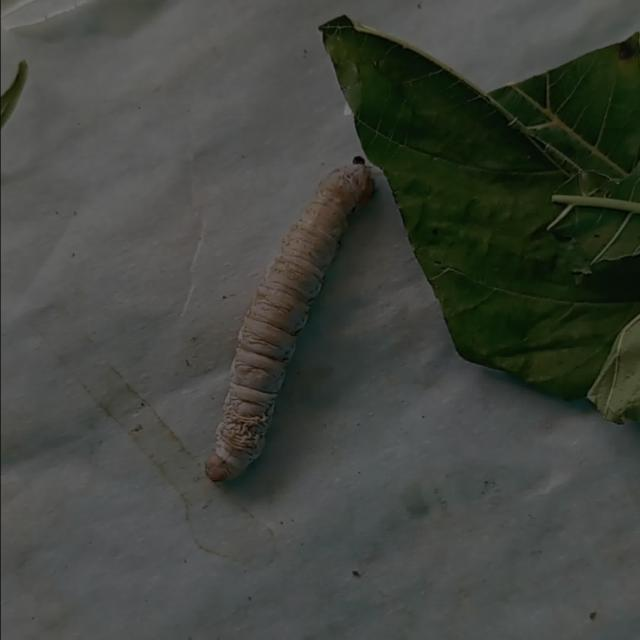Grasserie: (195, 144, 408, 489)
